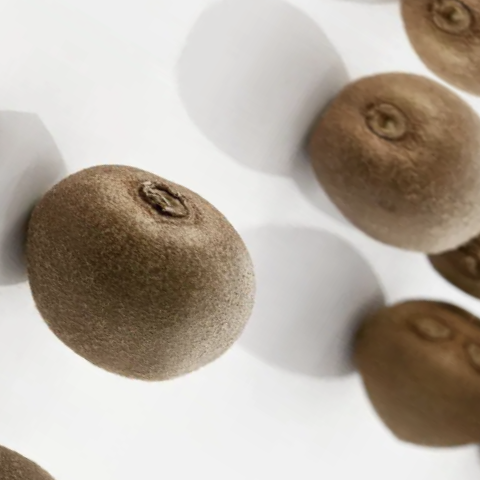kiwi: (0, 102, 316, 446), (251, 27, 480, 308)
